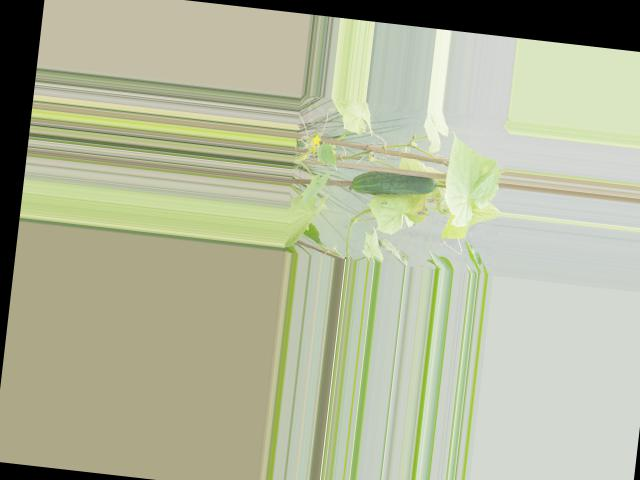cucumber: (349, 167, 437, 202)
